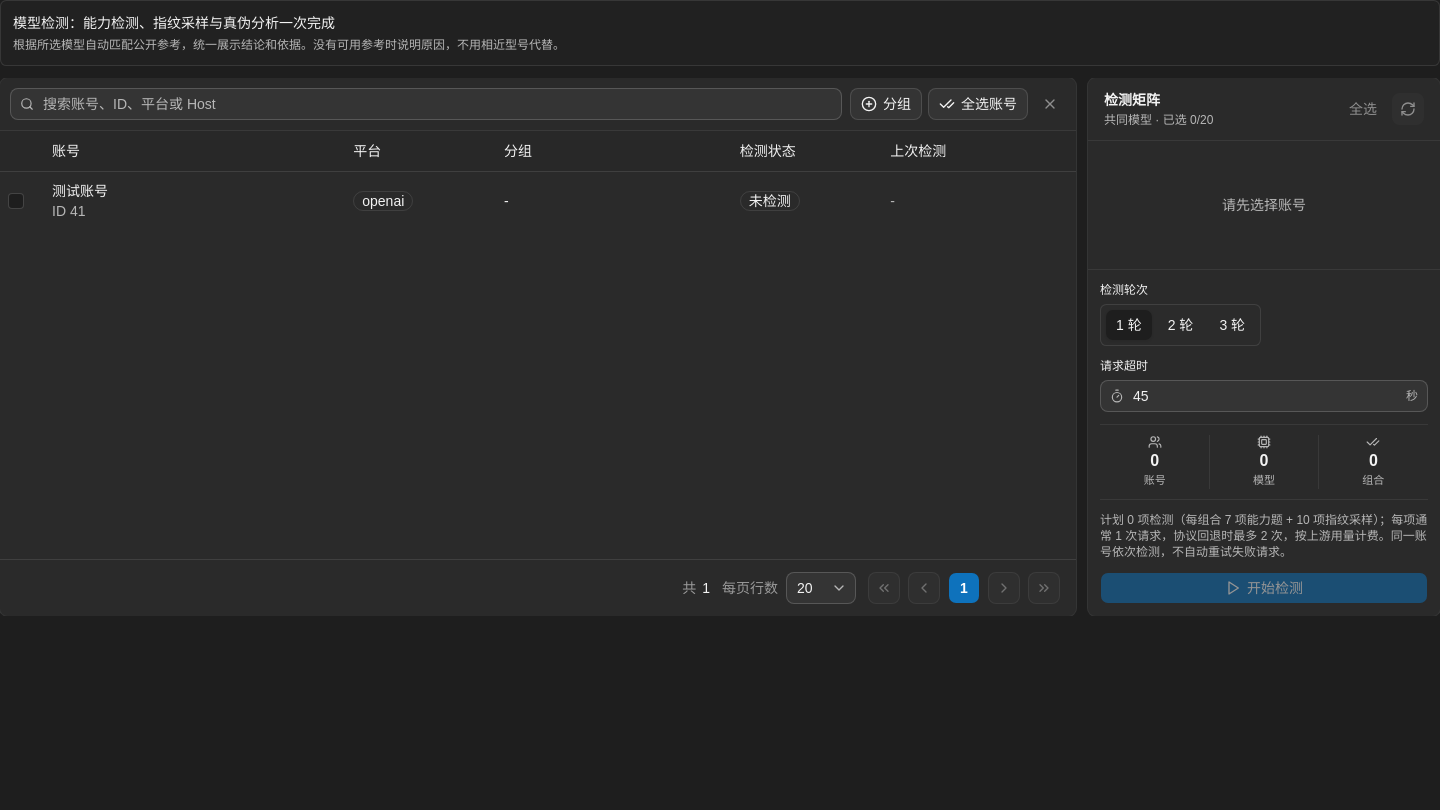
Scenario: 账号后台刷新失败时继续展示缓存账号和已有选择
The width and height of the screenshot is (1440, 810).
Step 1. Click the button "全选账号" → (978, 104), box [928, 88, 1028, 120]
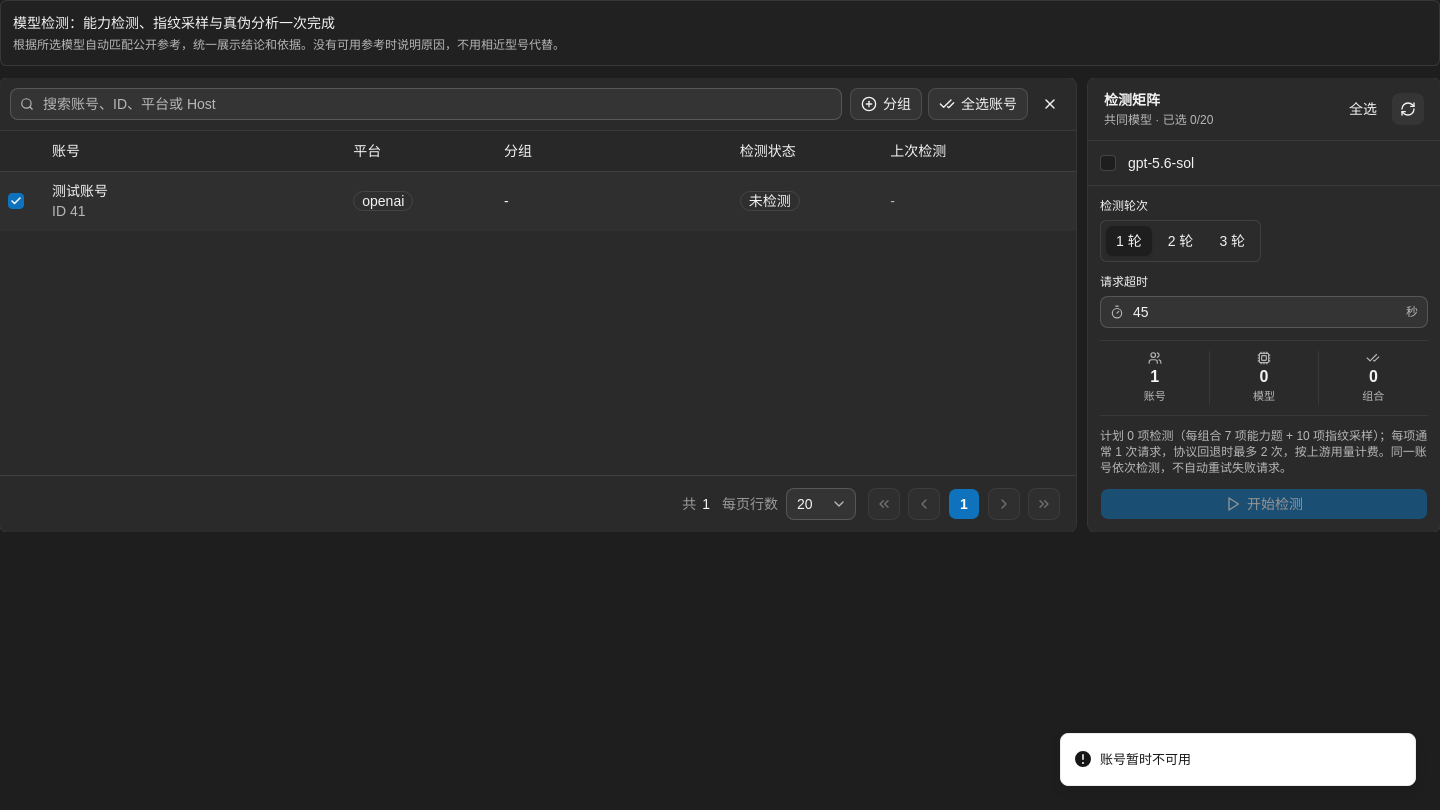
expect the checkbox named "测试账号" is checked: met, box [8, 193, 24, 209]
